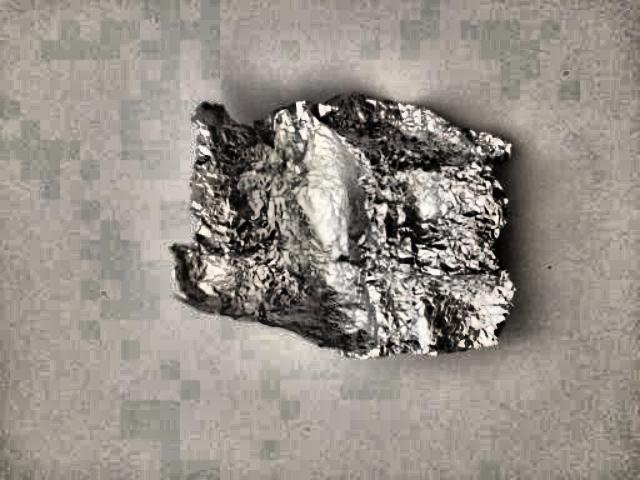Almennt: (160, 73, 548, 380)
